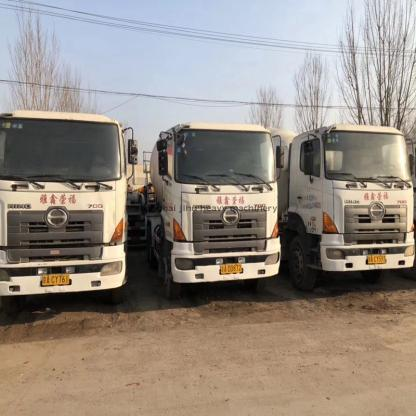dump_truck: (0, 104, 141, 321), (137, 124, 292, 310), (282, 103, 414, 309)
